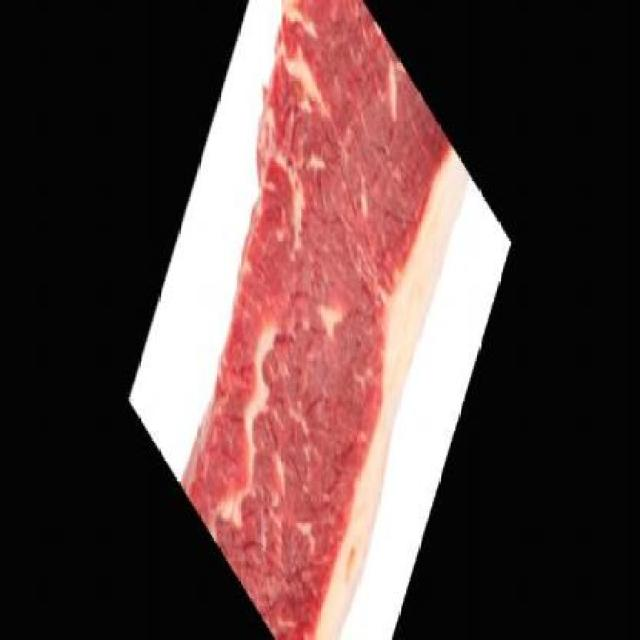beaf: (146, 0, 482, 637)
